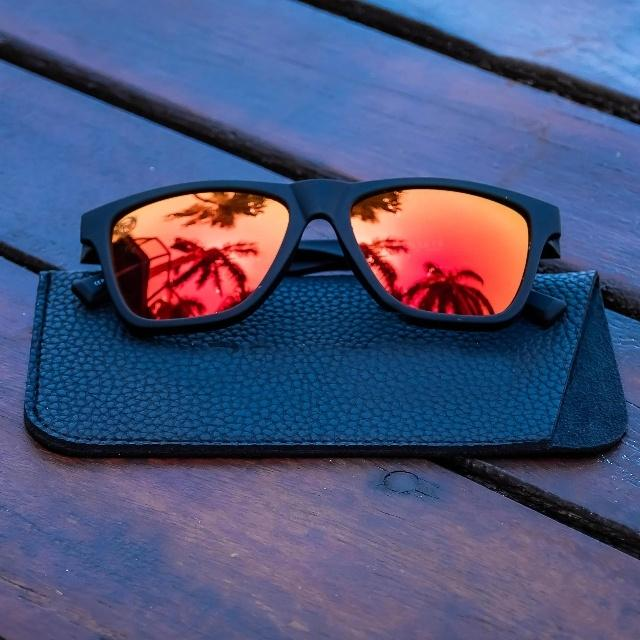Sunglasses: (60, 173, 562, 347)
